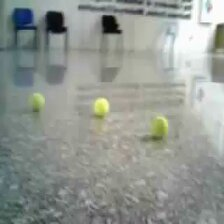tennis: (151, 115, 167, 135), (92, 97, 109, 114), (29, 93, 45, 109)
